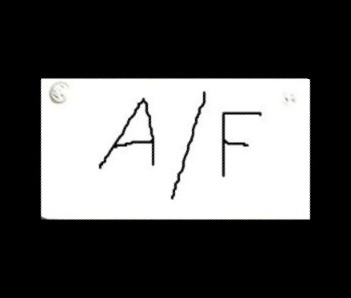character: (97, 95, 159, 172), (219, 107, 264, 178)
